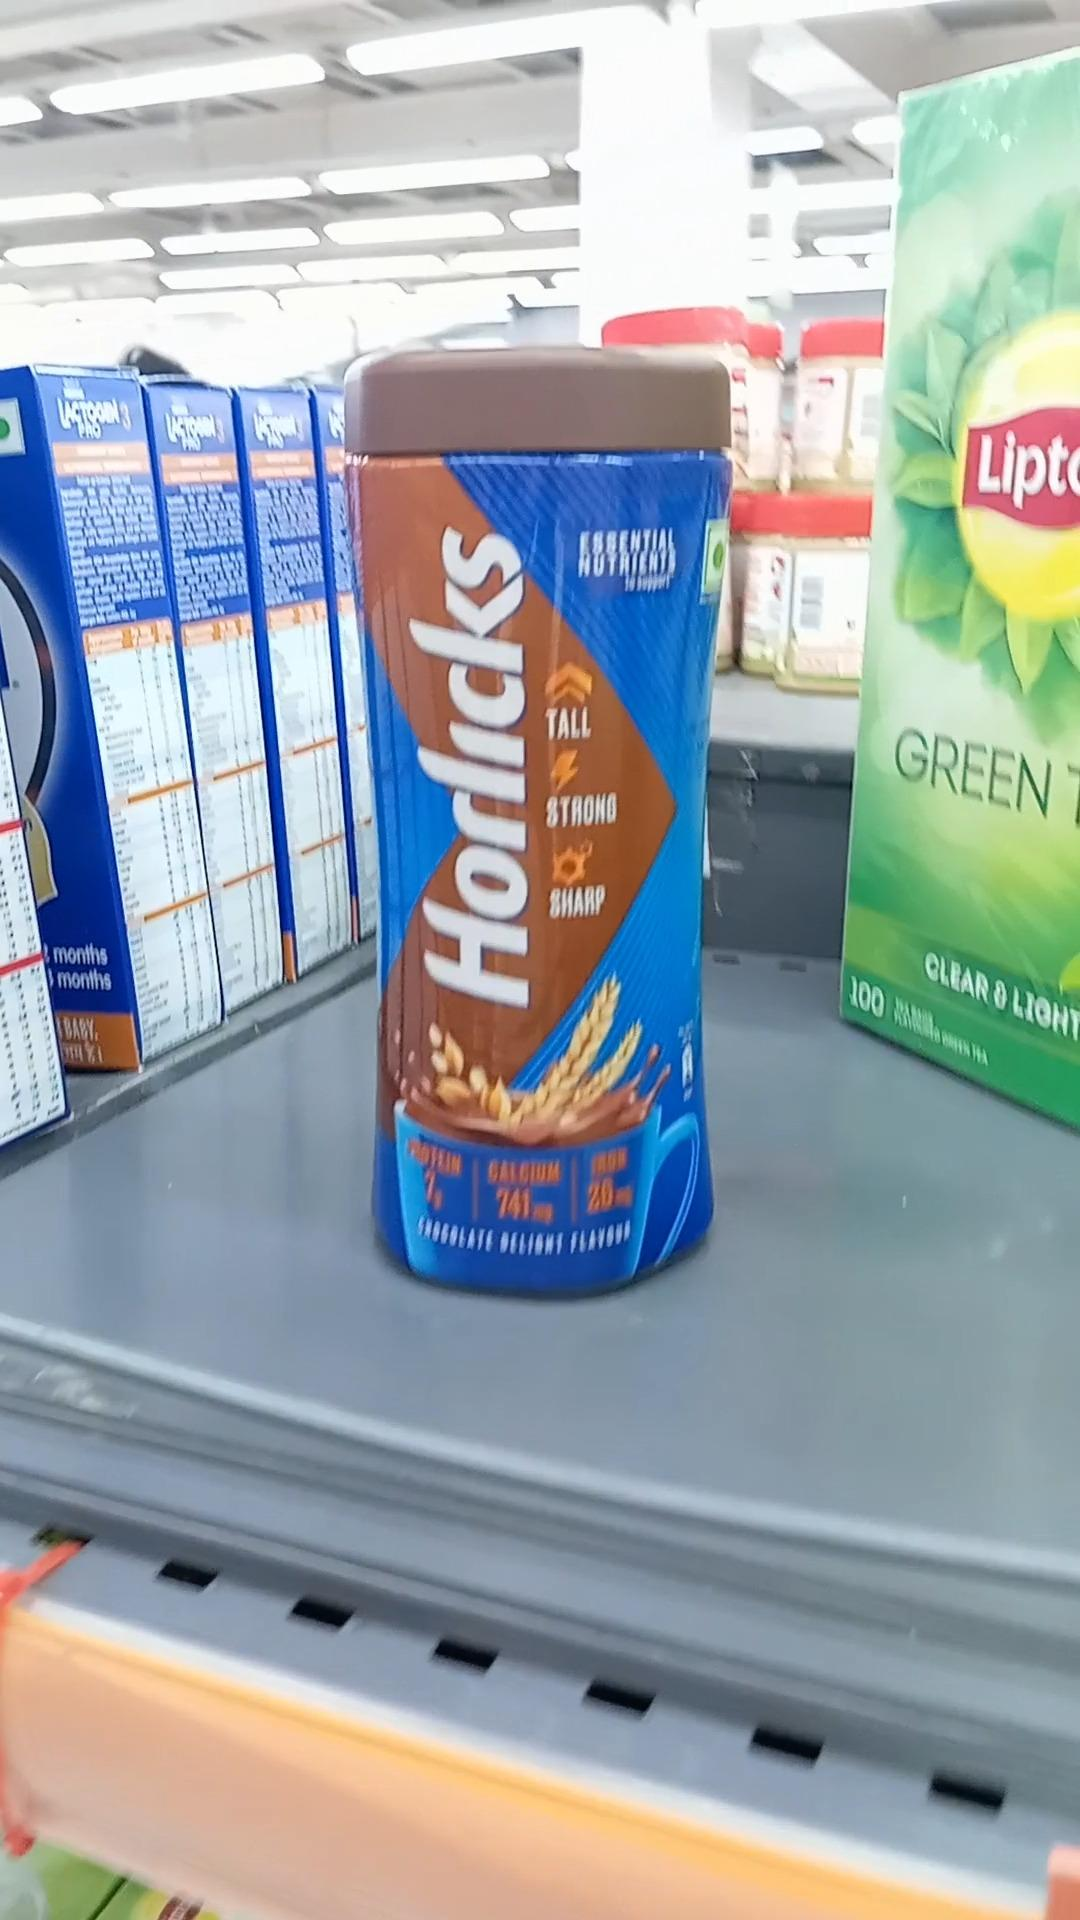HORLICK_CHOCOLATE_500_G_JAR: (353, 353, 724, 1302)
